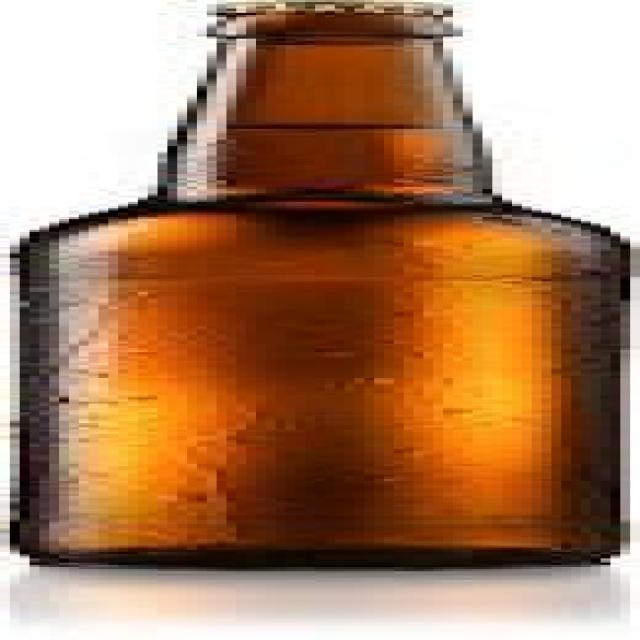glass: (0, 11, 630, 567)
metal: (187, 0, 443, 11)
